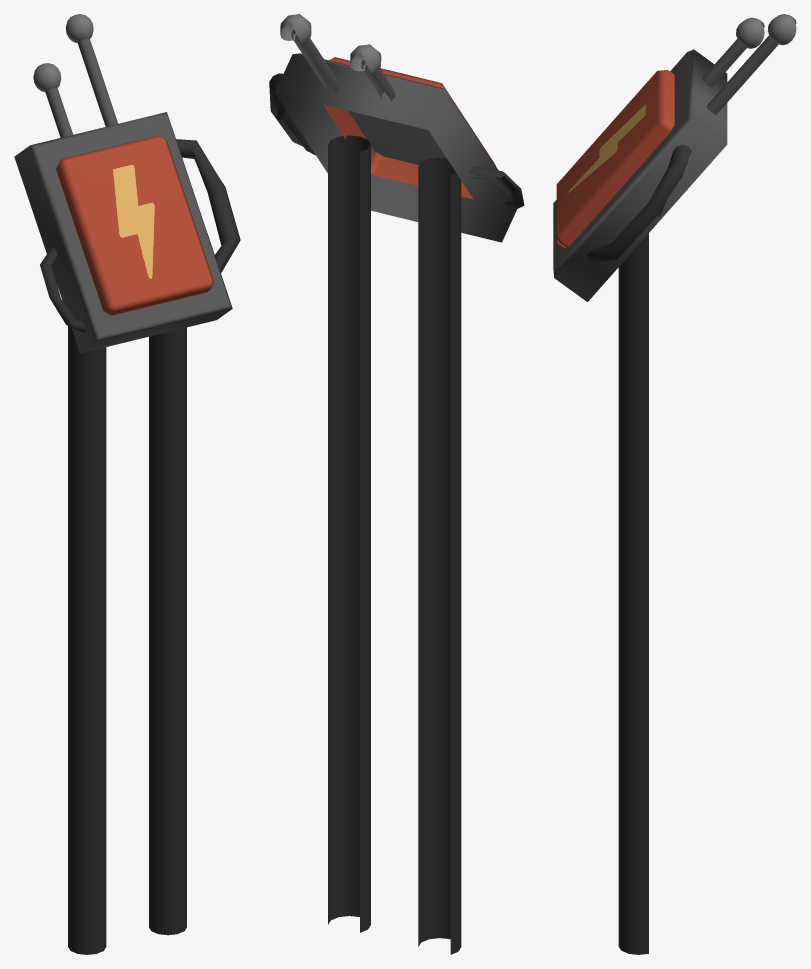
File: ShockButton.fbx
The picture shows the model from 3 angles, left to right: view 1: azimuth 30°, elevation 25°; view 2: azimuth 150°, elevation 25°; view 3: azimuth 270°, elevation 25°; orthographic projection. The views are drawn at different scales.
Parts seen in each view (by area): view 1: Base, Button; view 2: Base, Button; view 3: Base, Button.
Part boxes in pixels (left/top/right/bottom): Base: left=14, top=14, right=240, bottom=954; Button: left=56, top=135, right=213, bottom=315; Base: left=269, top=14, right=524, bottom=954; Button: left=323, top=57, right=495, bottom=199; Base: left=553, top=14, right=796, bottom=954; Button: left=556, top=70, right=674, bottom=248.
Bounding box in the file's own units: 3.6 × 14.98 × 3.58.
